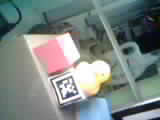duck: (56, 53, 116, 94)
